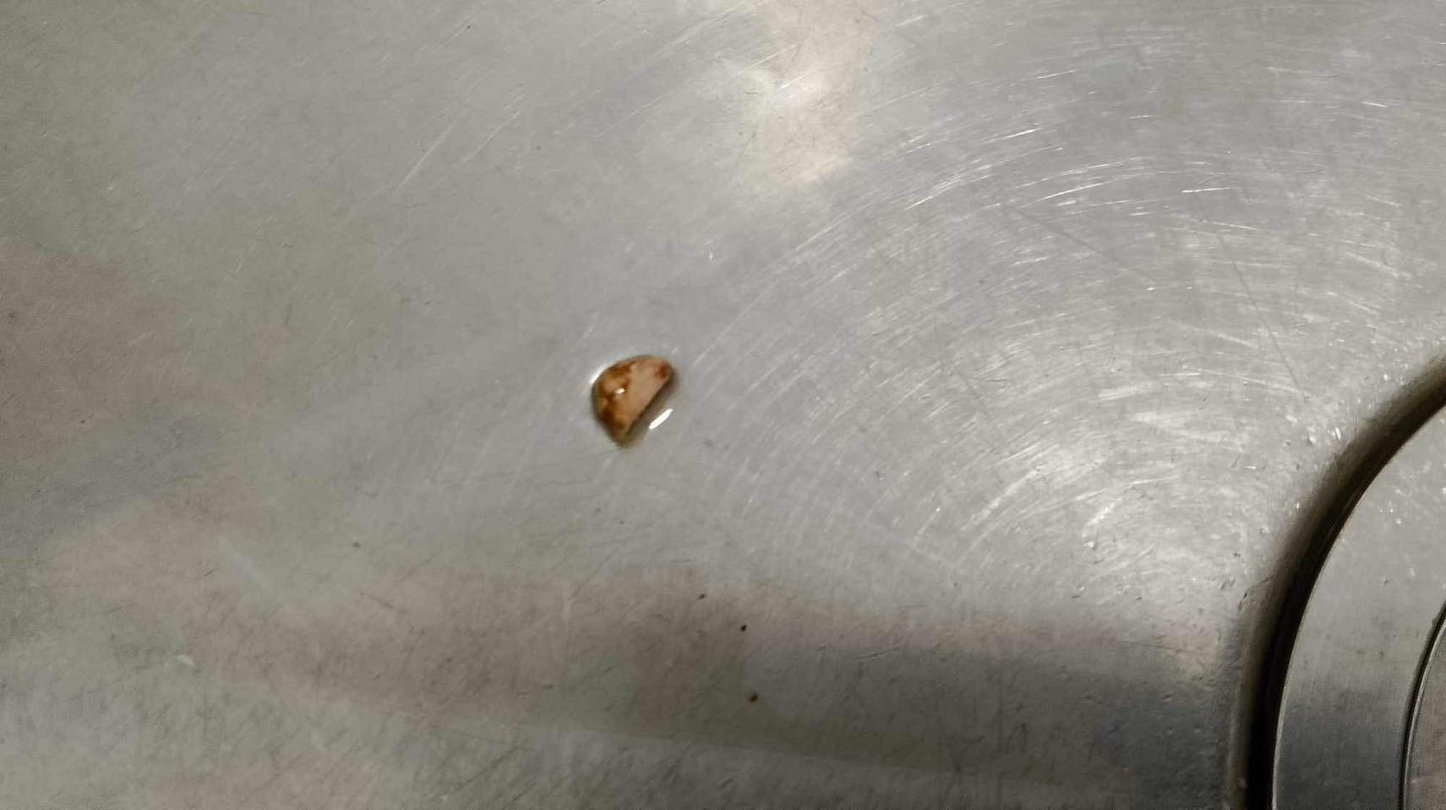General: (4, 3, 1439, 806)
Infectious: (589, 353, 674, 444)
